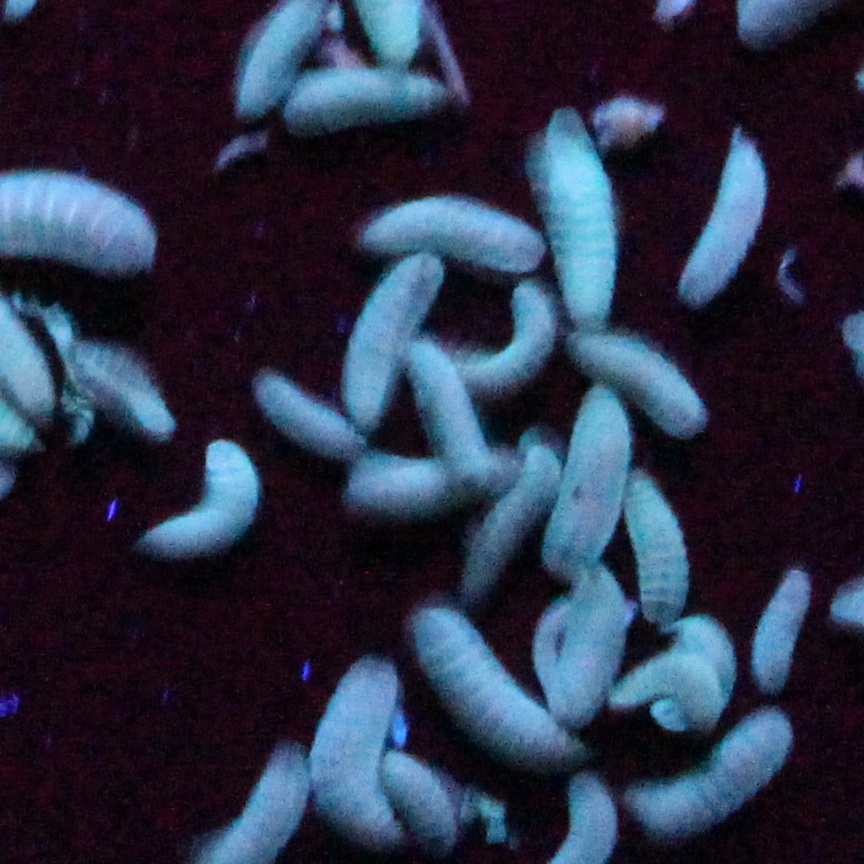larve: (405, 608, 593, 764), (616, 708, 789, 837), (528, 102, 620, 323), (343, 252, 443, 419), (562, 331, 718, 435), (320, 660, 401, 850), (683, 127, 768, 308), (360, 191, 547, 271), (399, 344, 497, 491), (147, 437, 264, 558), (283, 71, 447, 137), (60, 341, 178, 431), (251, 364, 364, 456), (349, 448, 524, 506), (745, 564, 812, 698), (385, 754, 460, 854)
